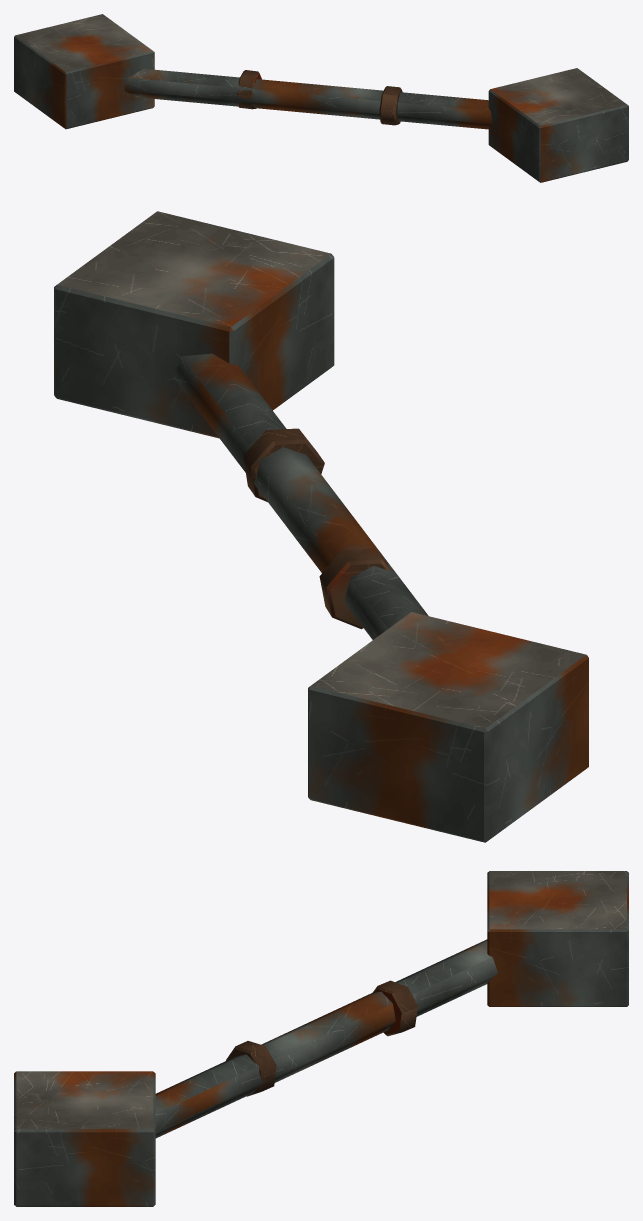
The model's file is R4C_ROD_DIAG_2D_LONG_LOD1.glb.
3 renders of one model, top to bottom at view 1: azimuth 30°, elevation 25°; view 2: azimuth 150°, elevation 25°; view 3: azimuth 270°, elevation 25°, orthographic. The views are drawn at different scales.
Visible parts, largest first — view 1: R4C_ROD_DIAG_2D_LONG_LOD1; view 2: R4C_ROD_DIAG_2D_LONG_LOD1; view 3: R4C_ROD_DIAG_2D_LONG_LOD1.
Boxes of the visible parts, box(x1,y1,x2,y2) form: R4C_ROD_DIAG_2D_LONG_LOD1: box(14, 14, 628, 182); R4C_ROD_DIAG_2D_LONG_LOD1: box(54, 211, 588, 842); R4C_ROD_DIAG_2D_LONG_LOD1: box(14, 871, 628, 1206).
Size of the model in its own units: 1.62 by 0.226 by 1.62.
3 materials, 3 textured.
